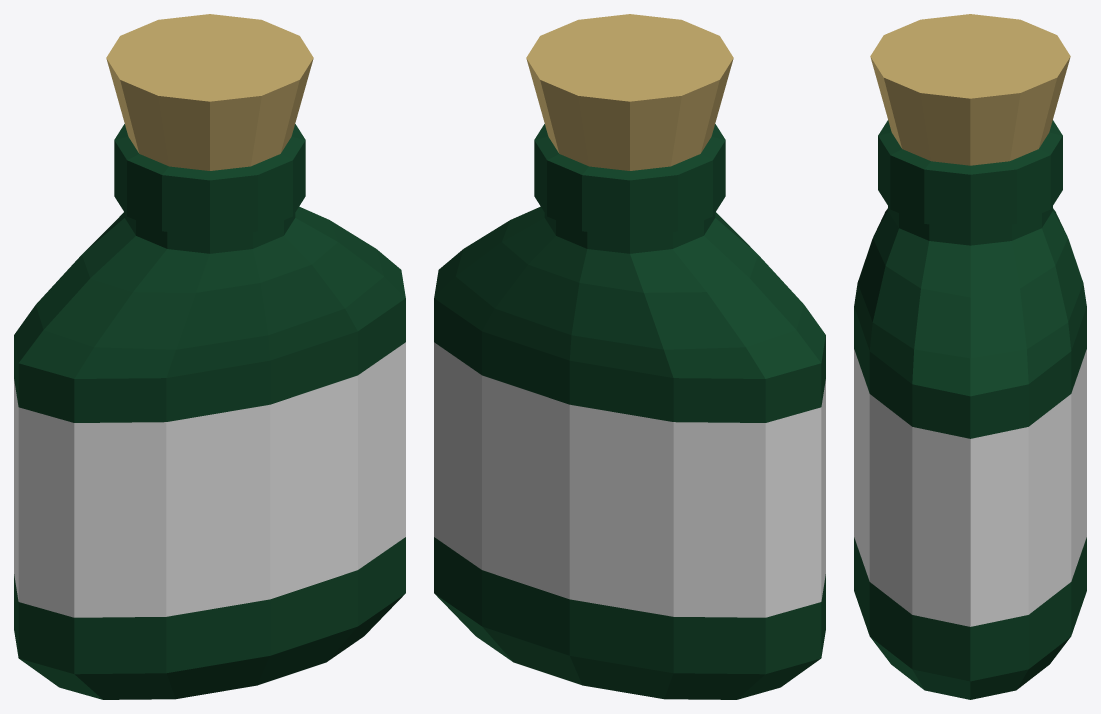
File: Rat_Poison.fbx
3 renders of one model, left to right at view 1: azimuth 30°, elevation 25°; view 2: azimuth 150°, elevation 25°; view 3: azimuth 270°, elevation 25°, orthographic. The views are drawn at different scales.
Parts seen in each view (by area): view 1: Cylinder; view 2: Cylinder; view 3: Cylinder.
Part boxes in pixels (<box>): Cylinder: <box>14,14,405,699</box>; Cylinder: <box>434,14,825,699</box>; Cylinder: <box>854,14,1086,699</box>.
Size of the model in its own units: 186 by 275 by 101.
